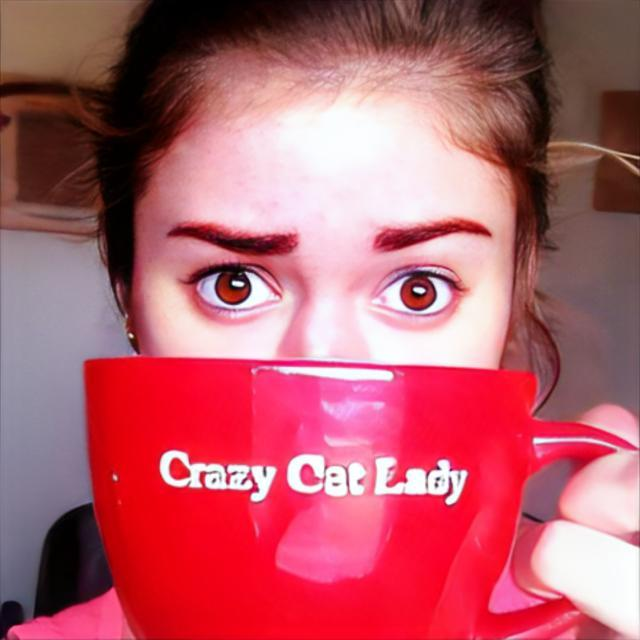fear: (123, 62, 516, 506)
